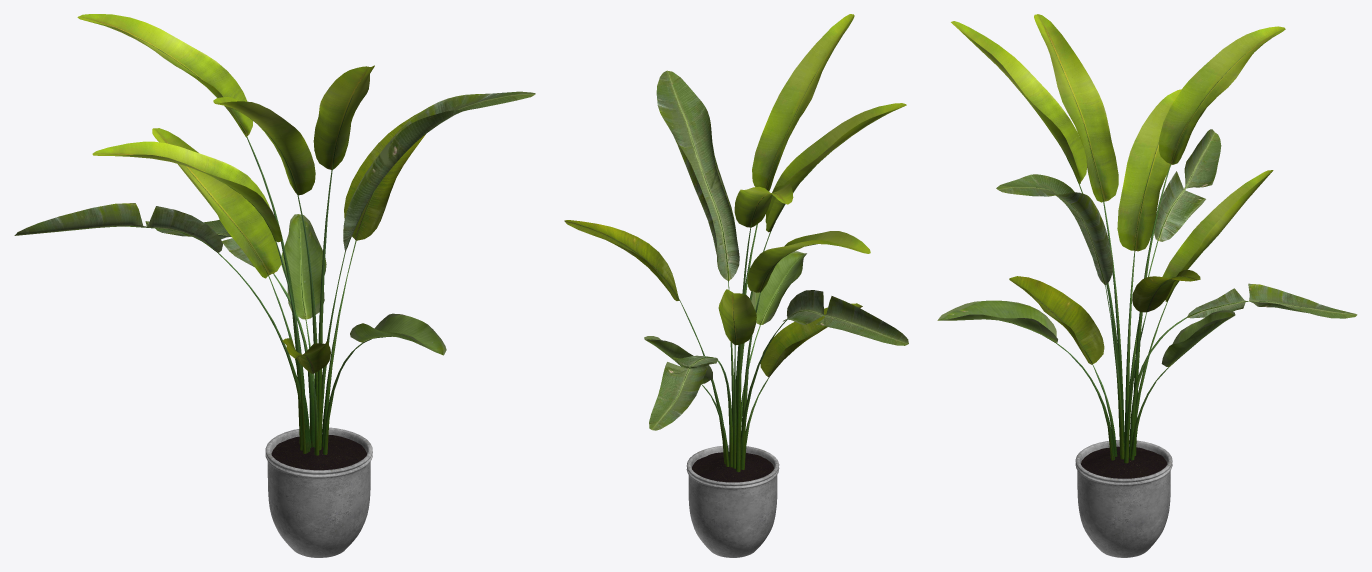
The model's file is plant_7.glb.
3 renders of one model, left to right at view 1: azimuth 30°, elevation 25°; view 2: azimuth 150°, elevation 25°; view 3: azimuth 270°, elevation 25°, orthographic. The views are drawn at different scales.
Visible parts, largest first — view 1: Plants_VOL01_07; view 2: Plants_VOL01_07; view 3: Plants_VOL01_07.
Boxes of the visible parts, left/top/right/bottom form: Plants_VOL01_07: left=14, top=14, right=535, bottom=557; Plants_VOL01_07: left=564, top=14, right=908, bottom=557; Plants_VOL01_07: left=937, top=14, right=1357, bottom=557.
Size of the model in its own units: 1.28 by 1.68 by 1.26.
7 materials, 7 textured.
